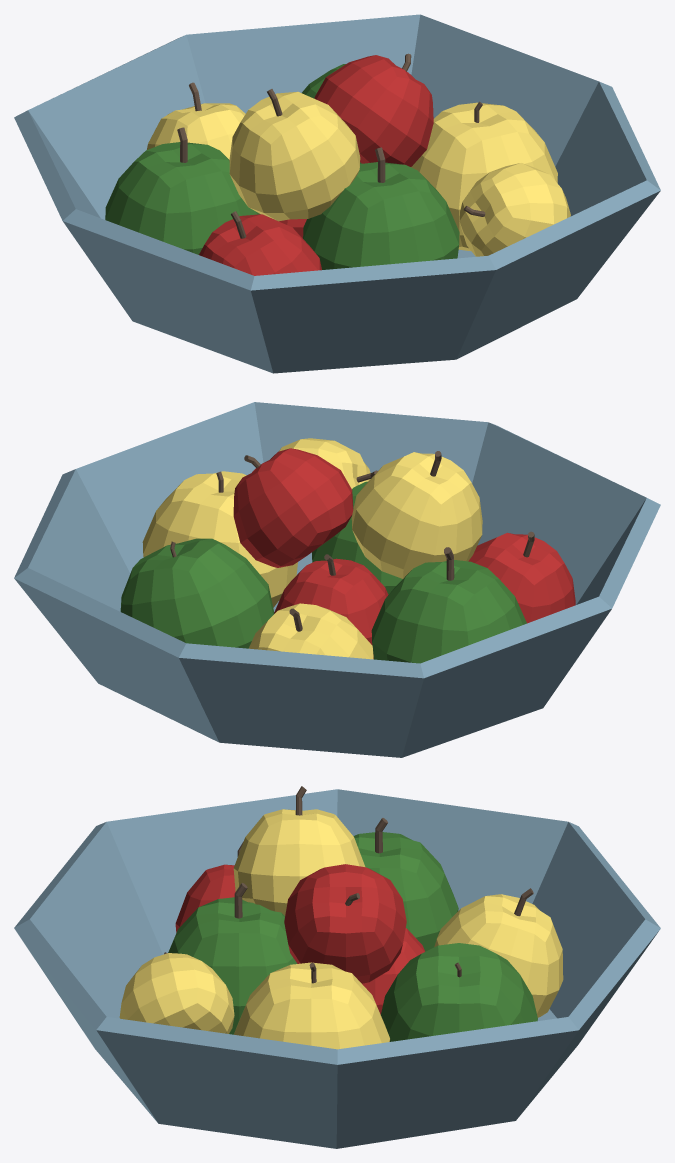
Rendered from Plate_with_apples_1.fbx.
3 views of the same model, one above another, from view 1: azimuth 30°, elevation 25°; view 2: azimuth 150°, elevation 25°; view 3: azimuth 270°, elevation 25° (orthographic).
Visible parts, largest first — view 1: Plate_with_apples_1; view 2: Plate_with_apples_1; view 3: Plate_with_apples_1.
Boxes of the visible parts, x1,y1,x2,y2 form: Plate_with_apples_1: [14, 14, 660, 373]; Plate_with_apples_1: [14, 402, 660, 757]; Plate_with_apples_1: [14, 786, 660, 1148].
Bounding box in the file's own units: 47.52 × 47.52 × 17.99.
